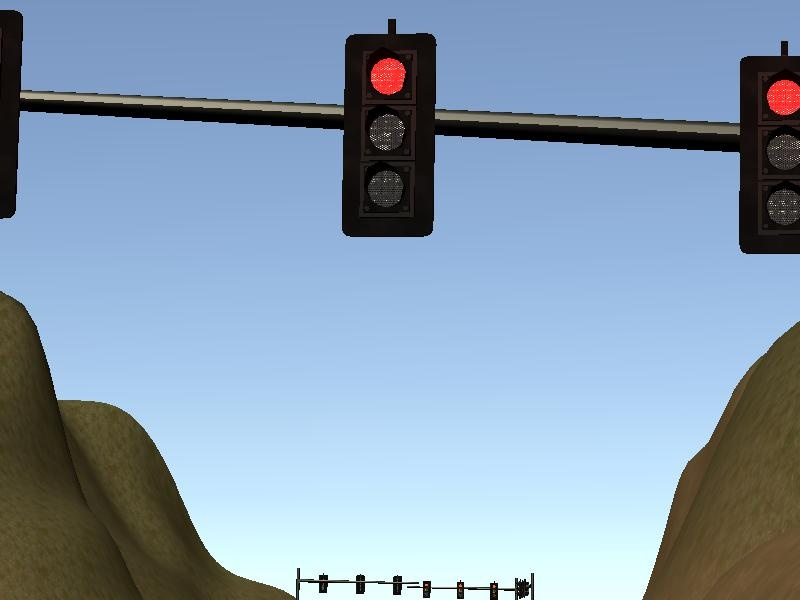RED: (342, 34, 437, 238), (736, 55, 800, 254)
